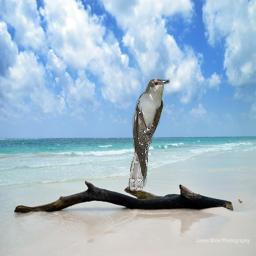Cuckoo: (128, 77, 170, 191)
